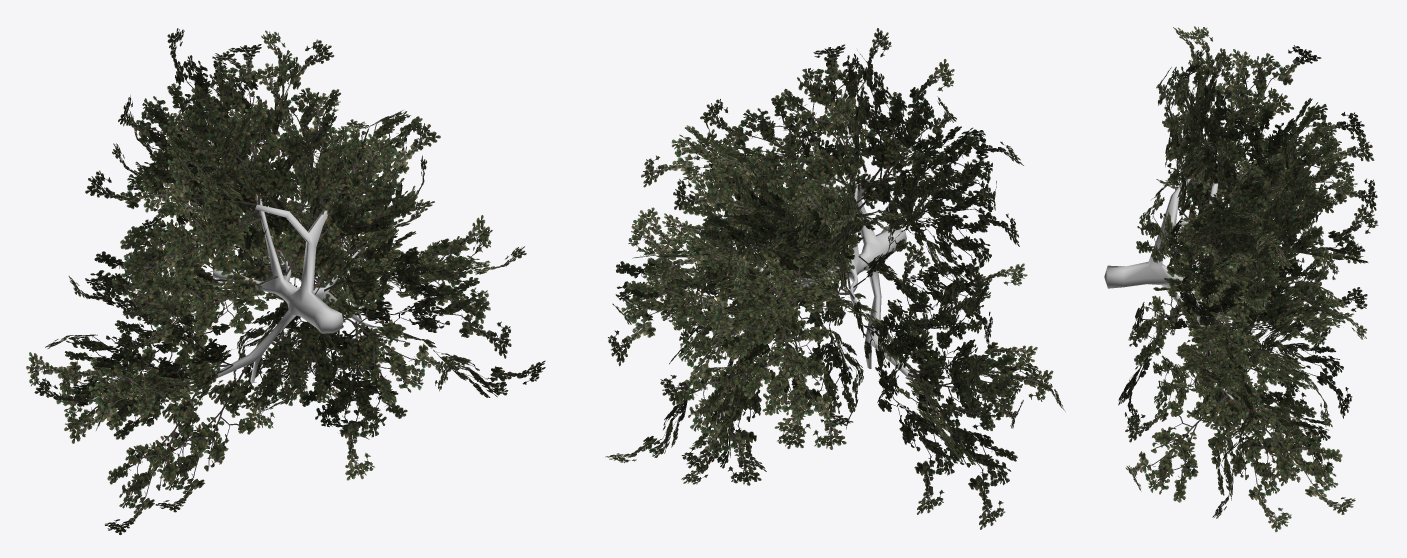
The model's file is OakTree.fbx.
3 renders of one model, left to right at view 1: azimuth 30°, elevation 25°; view 2: azimuth 150°, elevation 25°; view 3: azimuth 270°, elevation 25°, orthographic. The views are drawn at different scales.
Parts seen in each view (by area): view 1: OakTree2; view 2: OakTree2; view 3: OakTree2.
Part boxes in pixels (x1,y1,x2,y2): OakTree2: (26, 28, 545, 534); OakTree2: (605, 28, 1065, 529); OakTree2: (1104, 26, 1378, 532).
Size of the model in its own units: 1812 by 1825 by 1047.
